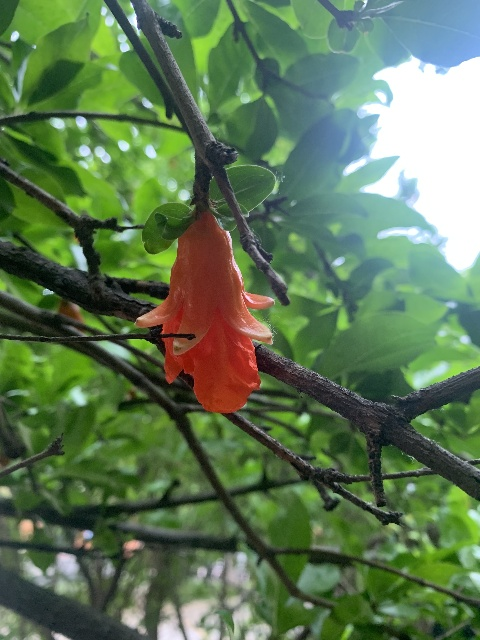flower: (136, 208, 274, 415)
